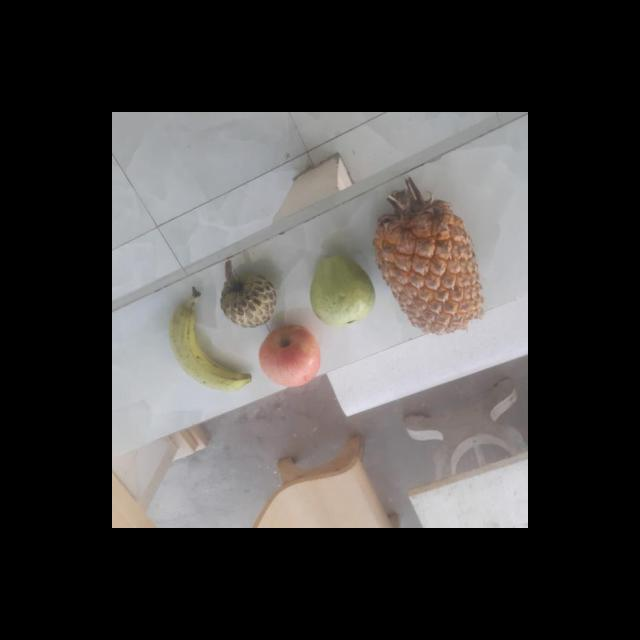Sakya fruit: (222, 268, 280, 330)
apple: (256, 324, 324, 388)
banana: (172, 296, 255, 392)
guava: (310, 256, 377, 326)
pineapple: (377, 202, 488, 336)
